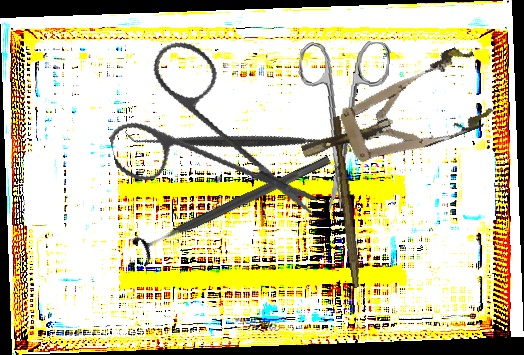Fixation Ring: (130, 144, 337, 268)
Iris Scissors: (91, 19, 321, 257), (286, 35, 392, 215)
Scalpel Handle: (329, 116, 365, 288)
Spatula Surgical: (123, 26, 353, 256)
Speculum: (287, 42, 499, 190)
